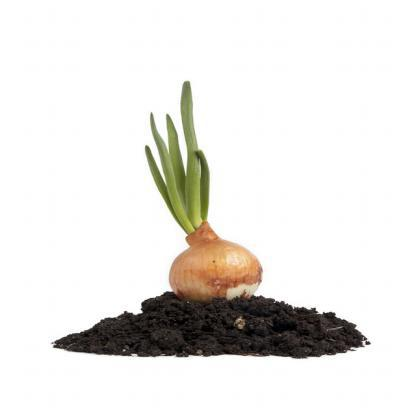onion: (162, 230, 274, 296)
